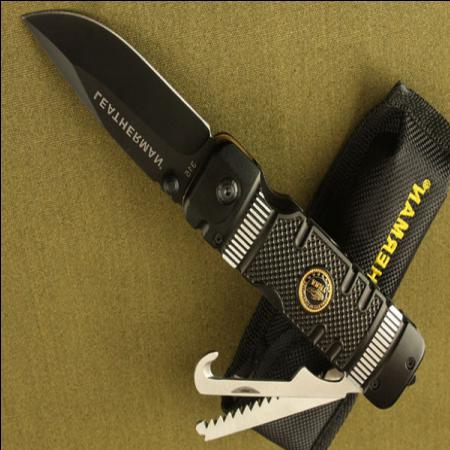long weapon: (13, 7, 216, 212)
